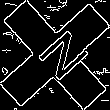N_SW: (23, 23, 87, 87)
